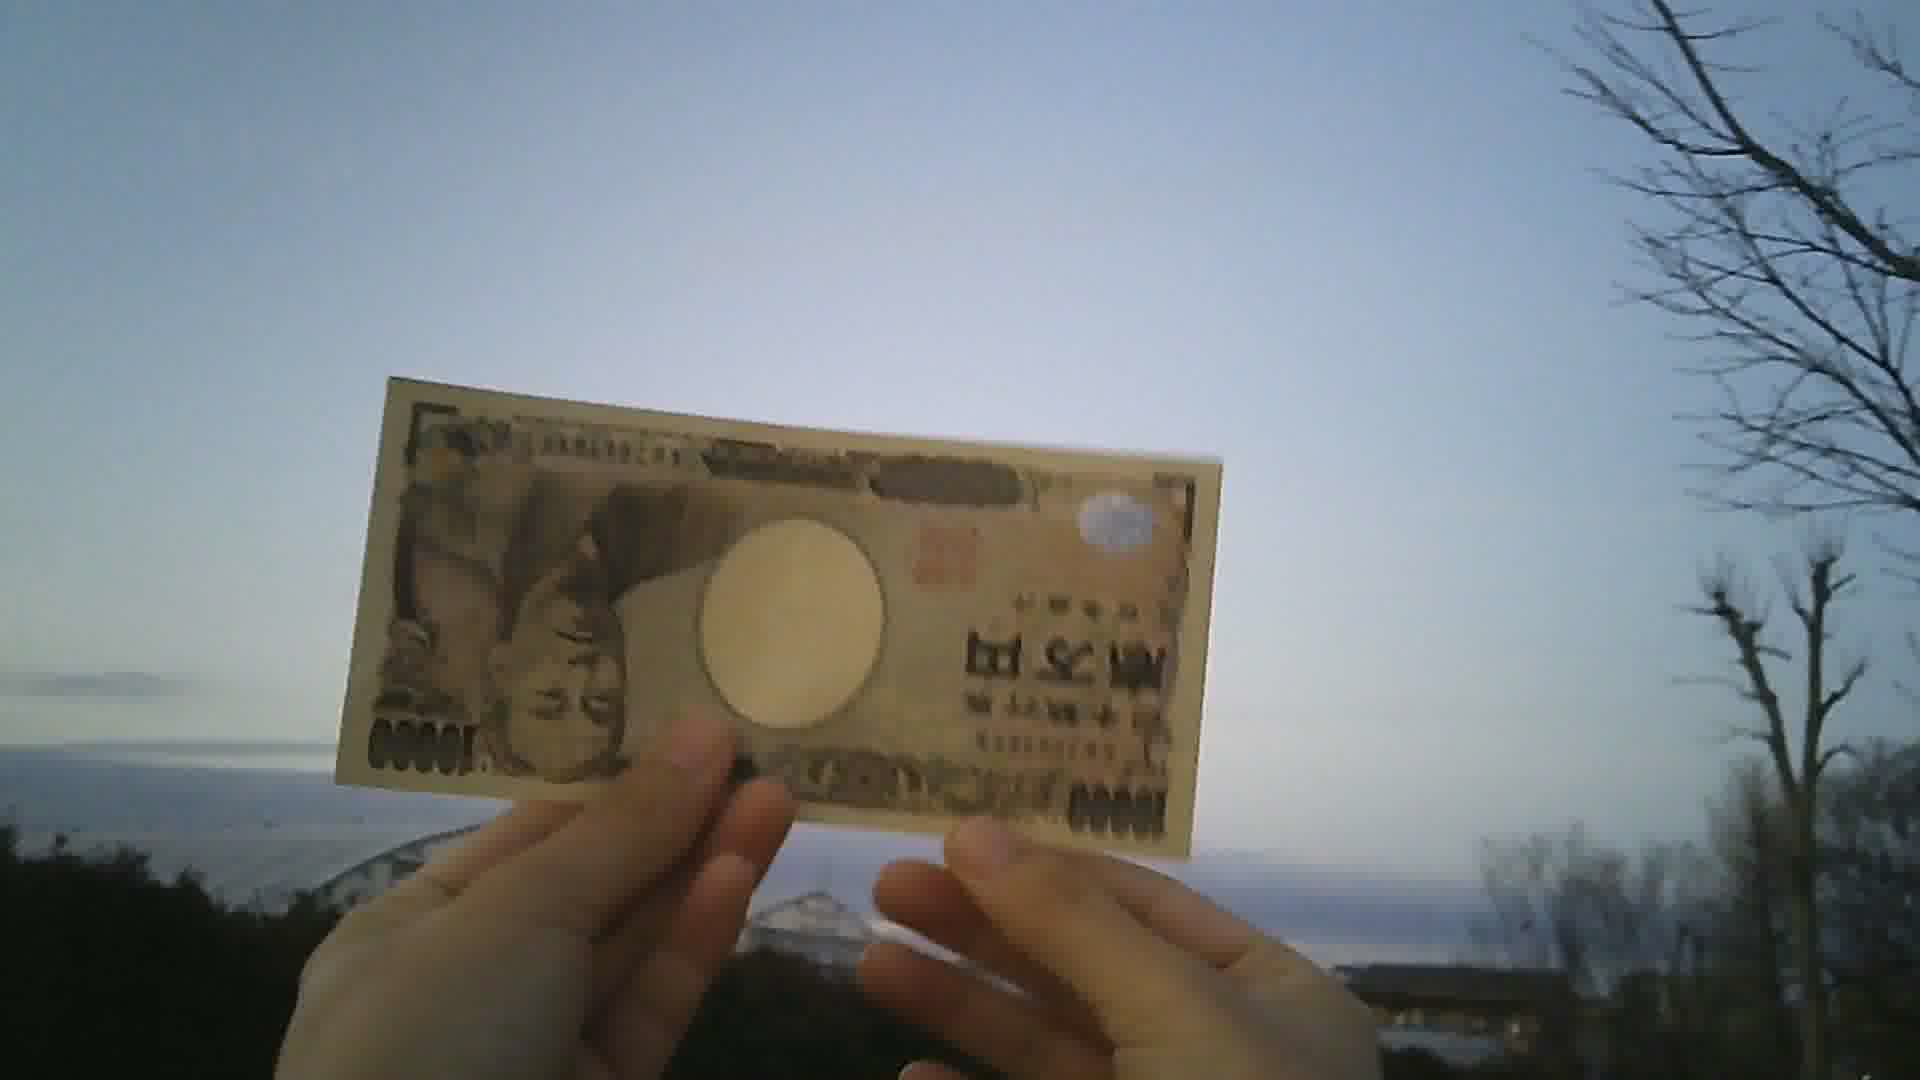10,000 Yen: (322, 365, 1232, 869)
